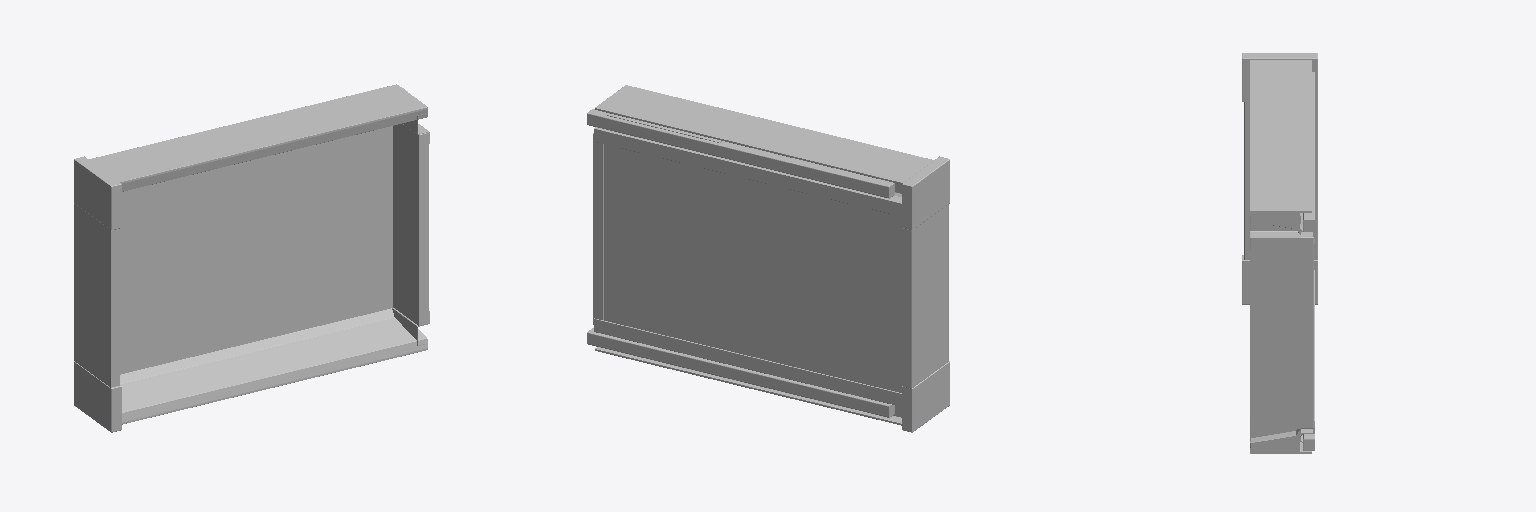
The model's file is SM_Kitchen_02_Drawer_01.obj.
The picture shows the model from 3 angles: view 1: azimuth 30°, elevation 25°; view 2: azimuth 150°, elevation 25°; view 3: azimuth 270°, elevation 25°; orthographic projection.
Visible parts, largest first — view 1: SM_Kitchen_02_Drawer_01; view 2: SM_Kitchen_02_Drawer_01; view 3: SM_Kitchen_02_Drawer_01.
Part boxes in pixels (left/top/right/bottom): SM_Kitchen_02_Drawer_01: left=74, top=84, right=429, bottom=432; SM_Kitchen_02_Drawer_01: left=587, top=85, right=949, bottom=432; SM_Kitchen_02_Drawer_01: left=1242, top=53, right=1317, bottom=453.
Size of the model in its own units: 0.5029 by 0.362 by 0.101.